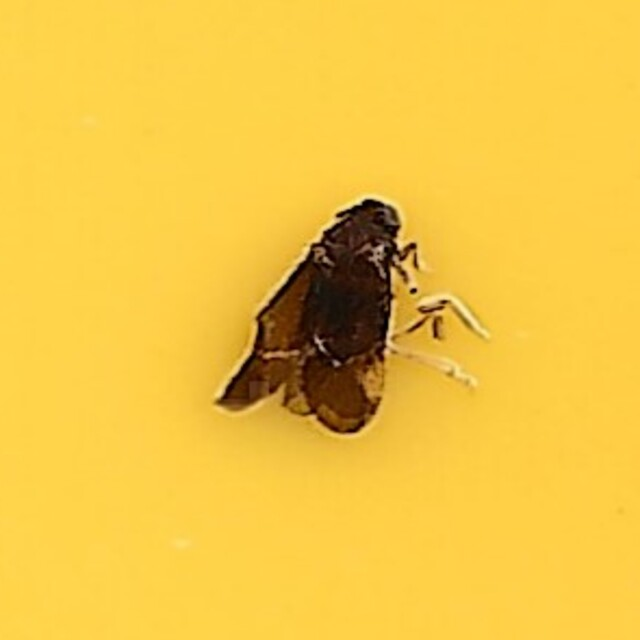Hemiptera: (217, 198, 423, 442)
